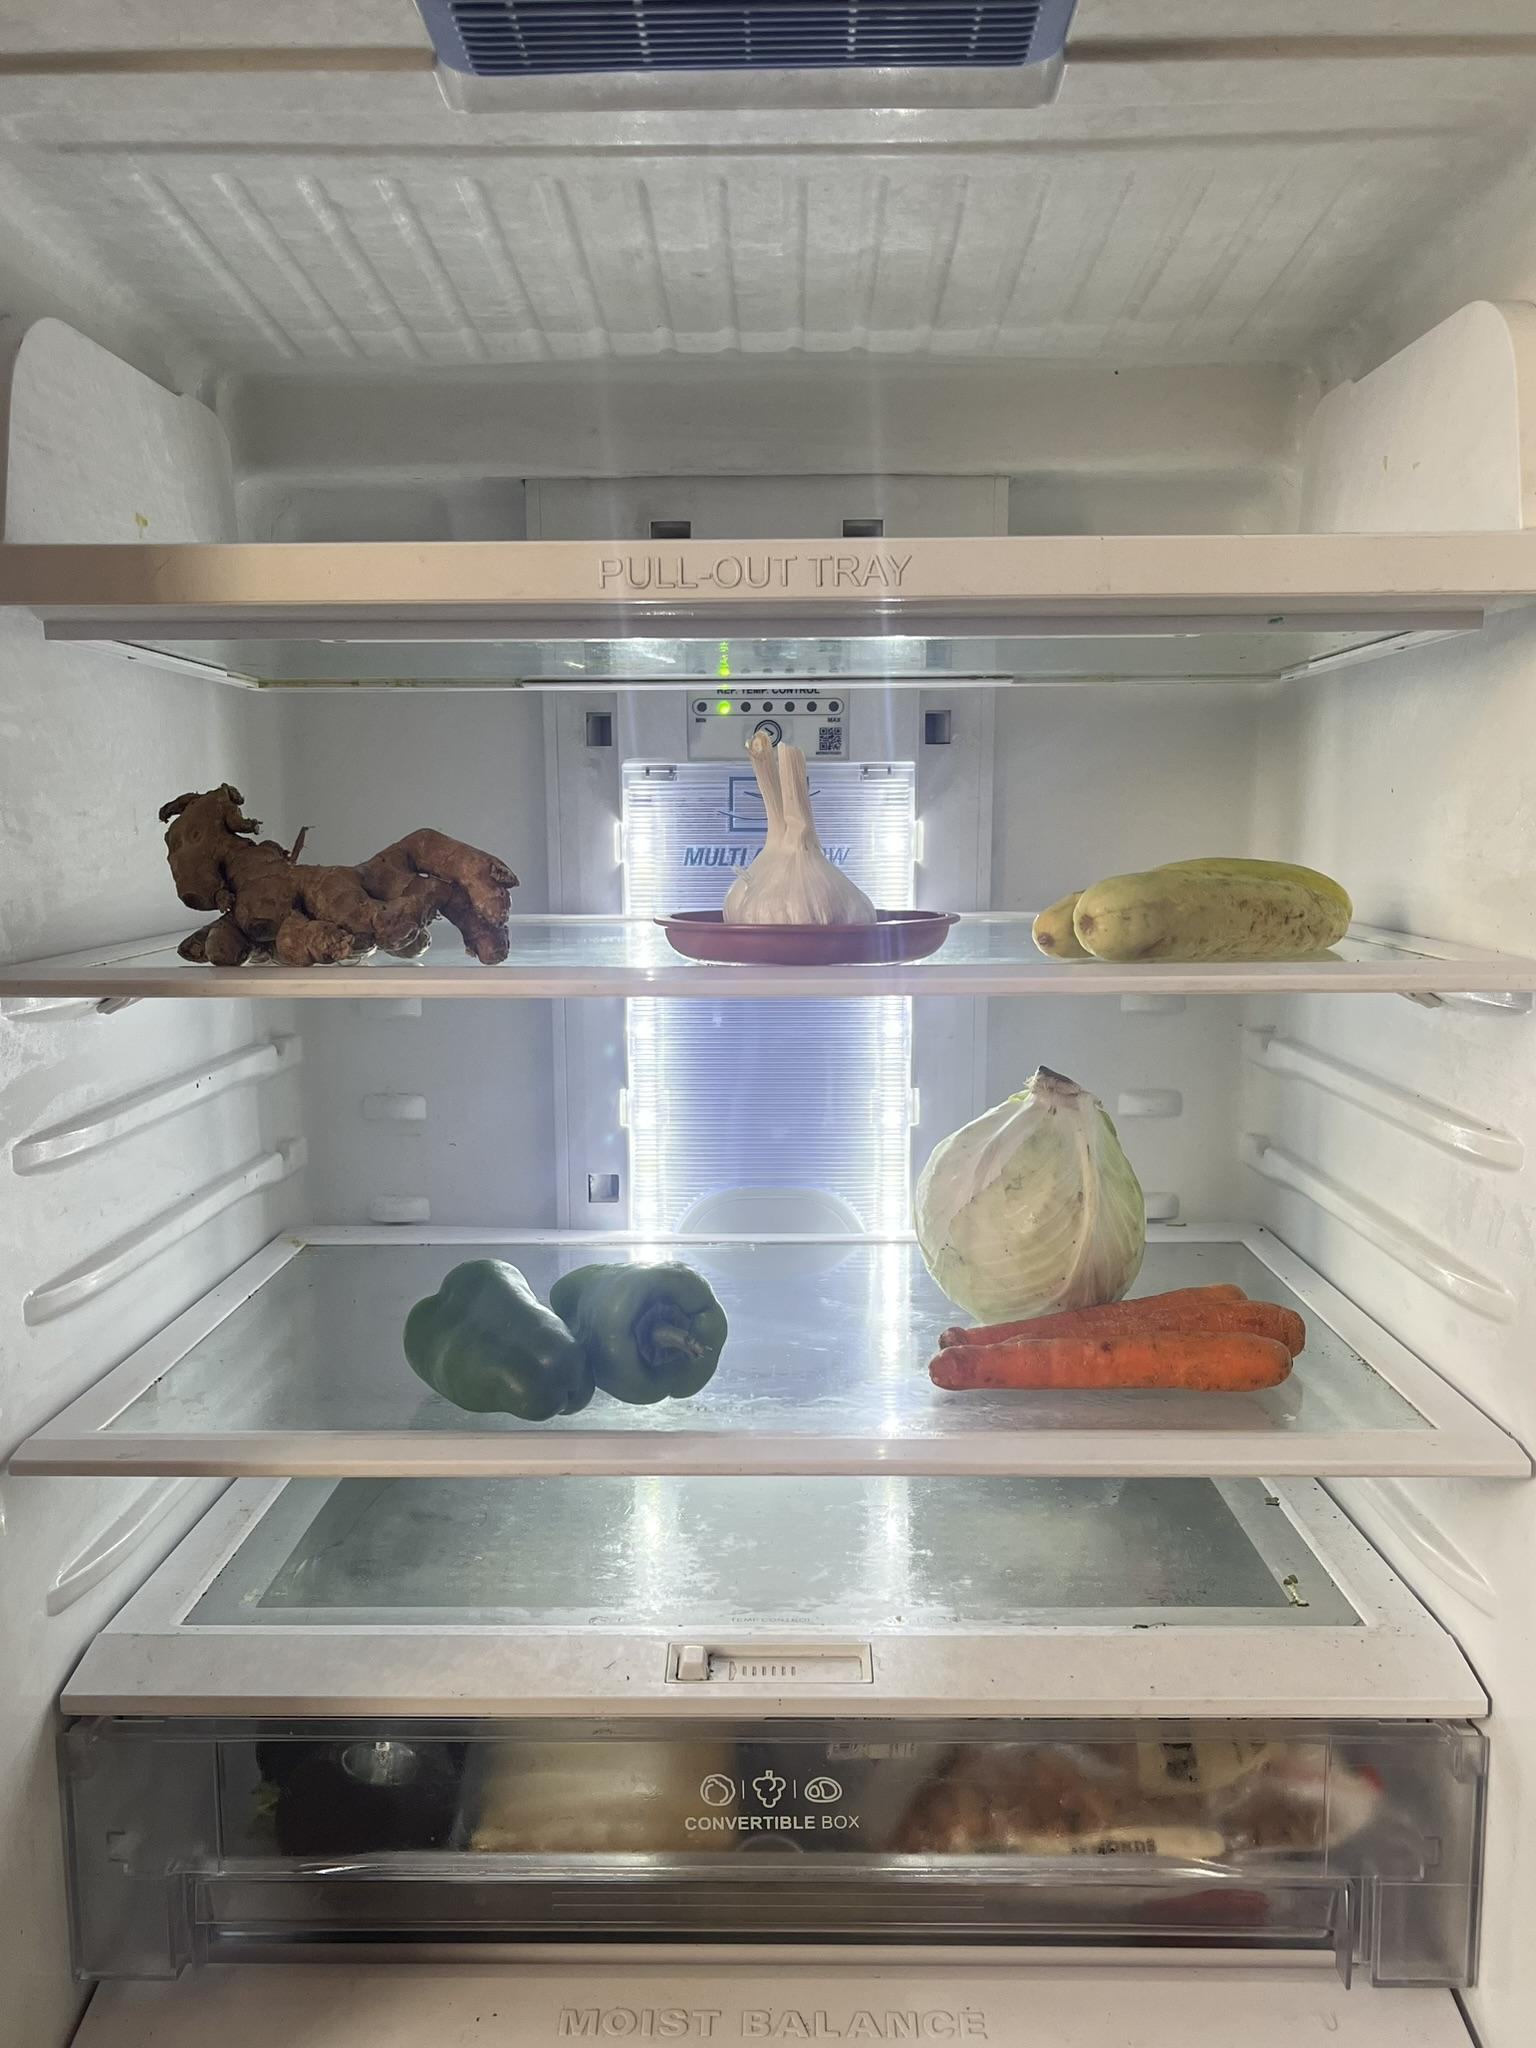cabbage: (910, 1063, 1136, 1334)
capsicum: (407, 1250, 726, 1416)
carrots: (923, 1287, 1307, 1390)
cucumber: (1037, 853, 1350, 956)
garlic: (726, 734, 887, 924)
ginger: (166, 780, 520, 963)
